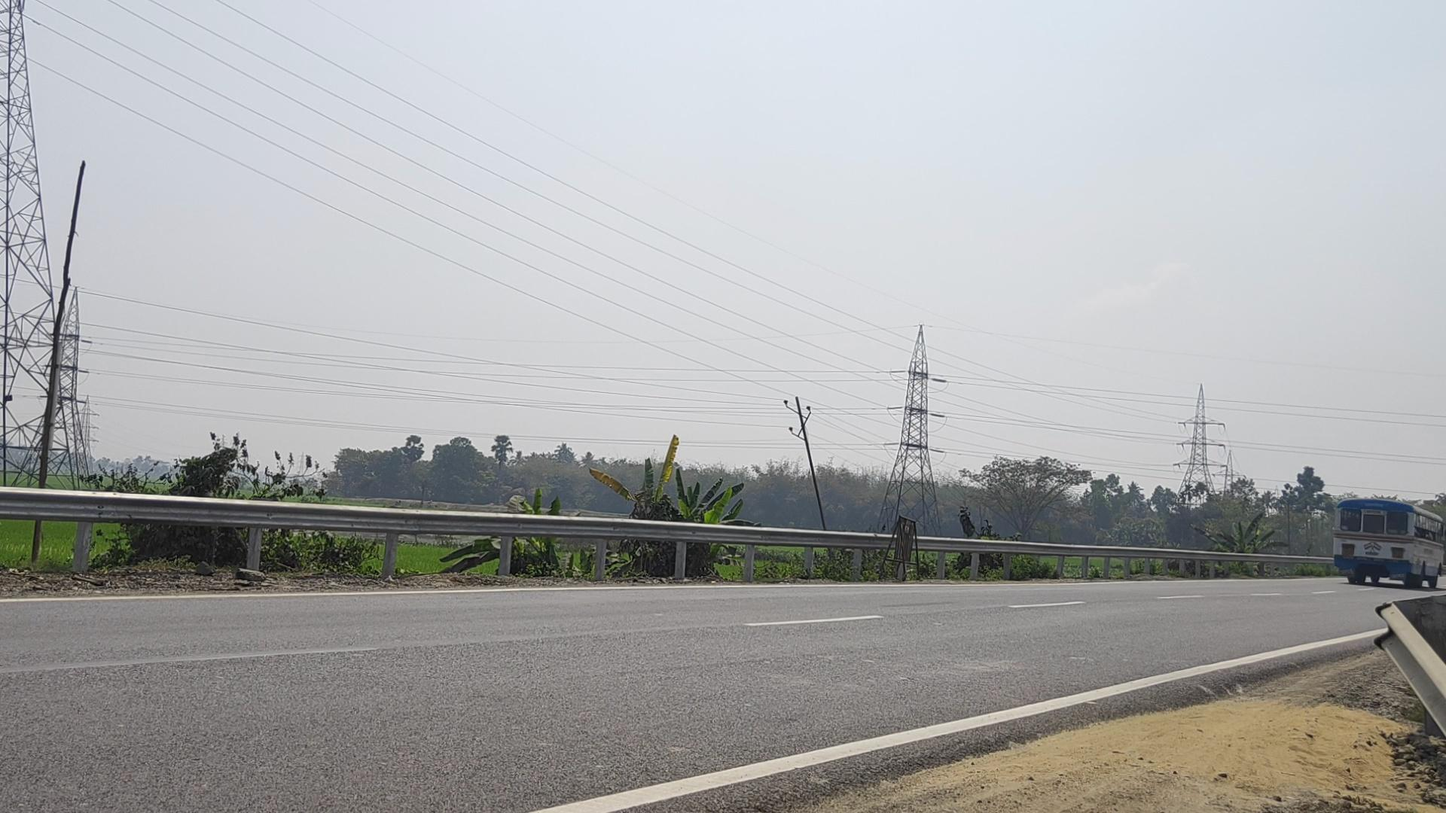Bus: (1333, 498, 1446, 589)
